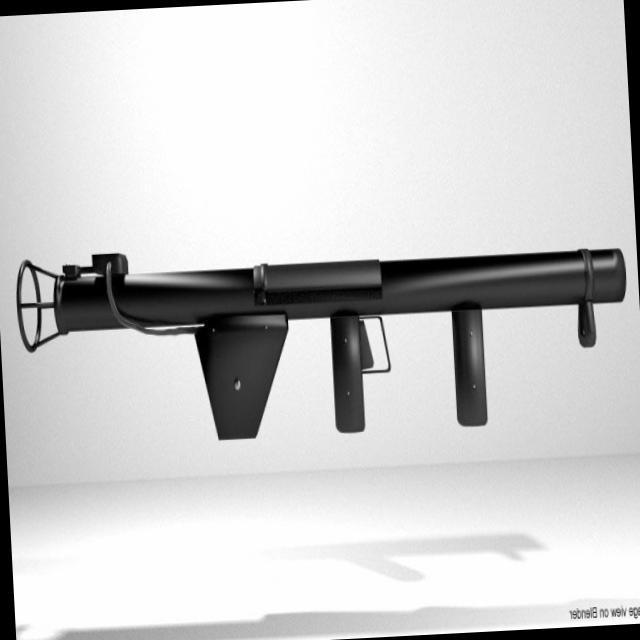rocket: (9, 228, 636, 453)
